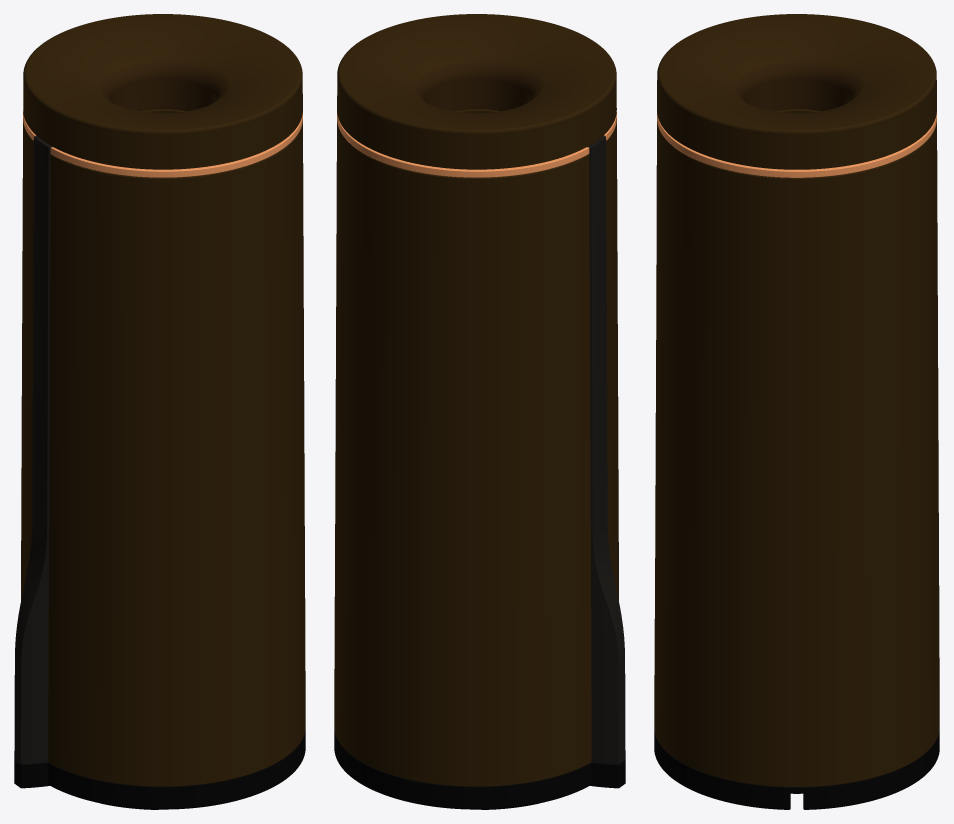
File: jd011_web.glb
The picture shows the model from 3 angles, left to right: view 1: azimuth 30°, elevation 25°; view 2: azimuth 150°, elevation 25°; view 3: azimuth 270°, elevation 25°; orthographic projection.
Size of the model in its own units: 0.0979 by 0.2368 by 0.0899.
